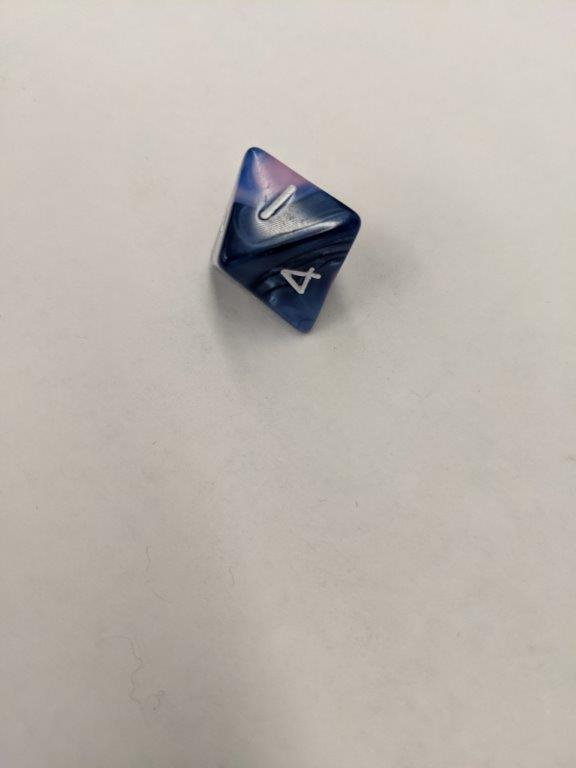d8-1: (212, 145, 361, 340)
